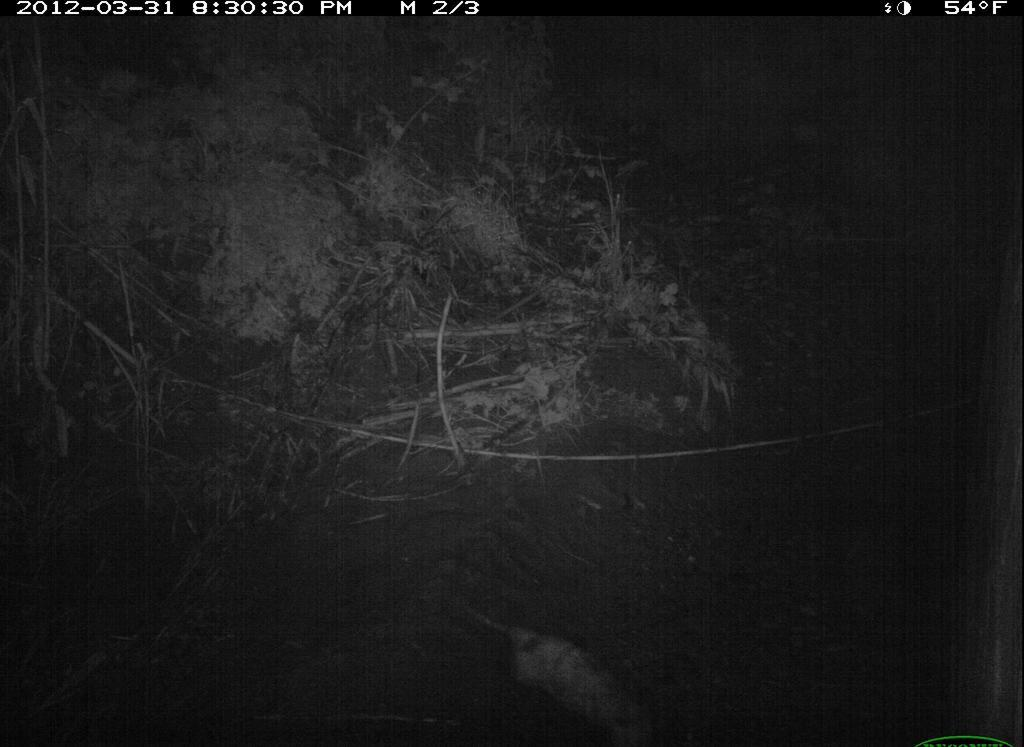opossum: (456, 600, 673, 742)
